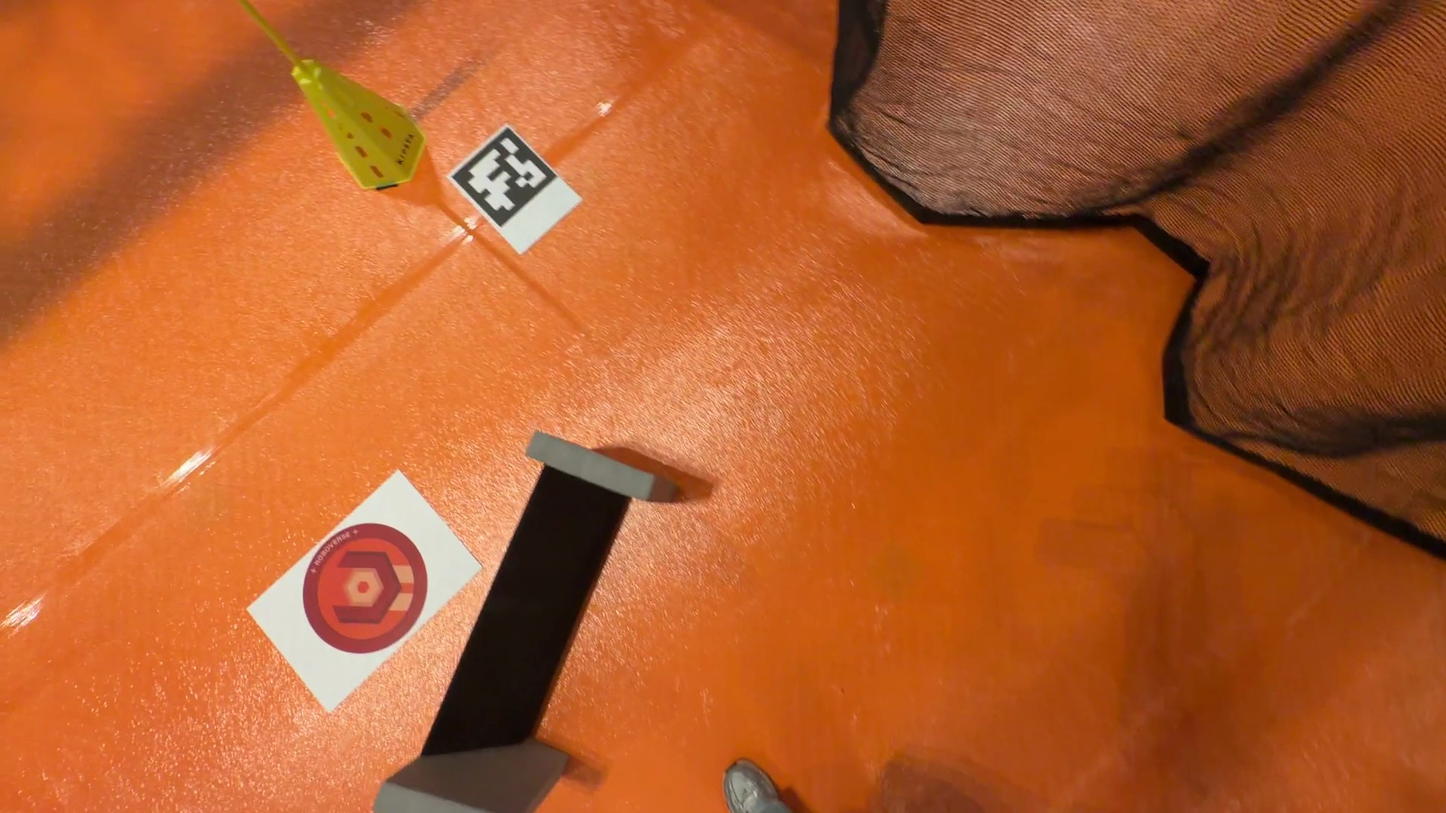landing_pad: (296, 518, 435, 658)
